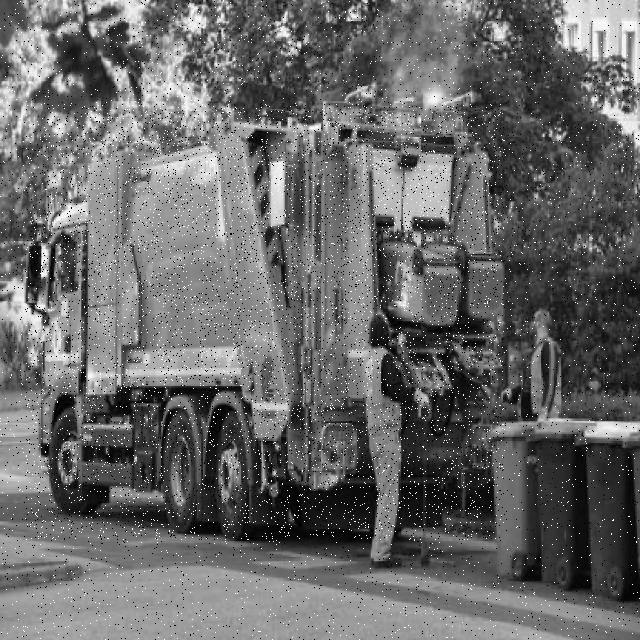Garbage Truck: (26, 104, 504, 540)
